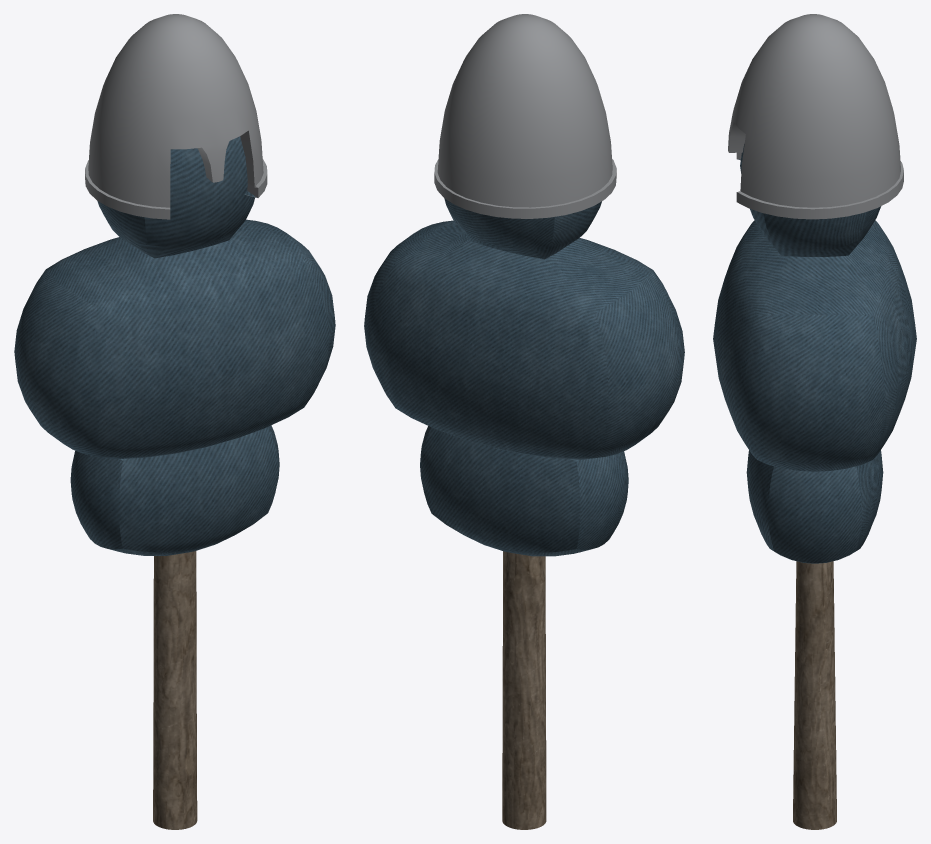
Rendered from dummy.glb.
The picture shows the model from 3 angles, left to right: view 1: azimuth 30°, elevation 25°; view 2: azimuth 150°, elevation 25°; view 3: azimuth 270°, elevation 25°; orthographic projection.
Parts seen in each view (by area): view 1: Sphere.001; view 2: Sphere.001; view 3: Sphere.001.
Boxes of the visible parts, <box> form: Sphere.001: <box>14,14,335,829</box>; Sphere.001: <box>364,14,684,829</box>; Sphere.001: <box>713,14,916,829</box>.
Bounding box in the file's own units: 0.7096 × 1.84 × 0.4227.
1 material, 1 textured.
